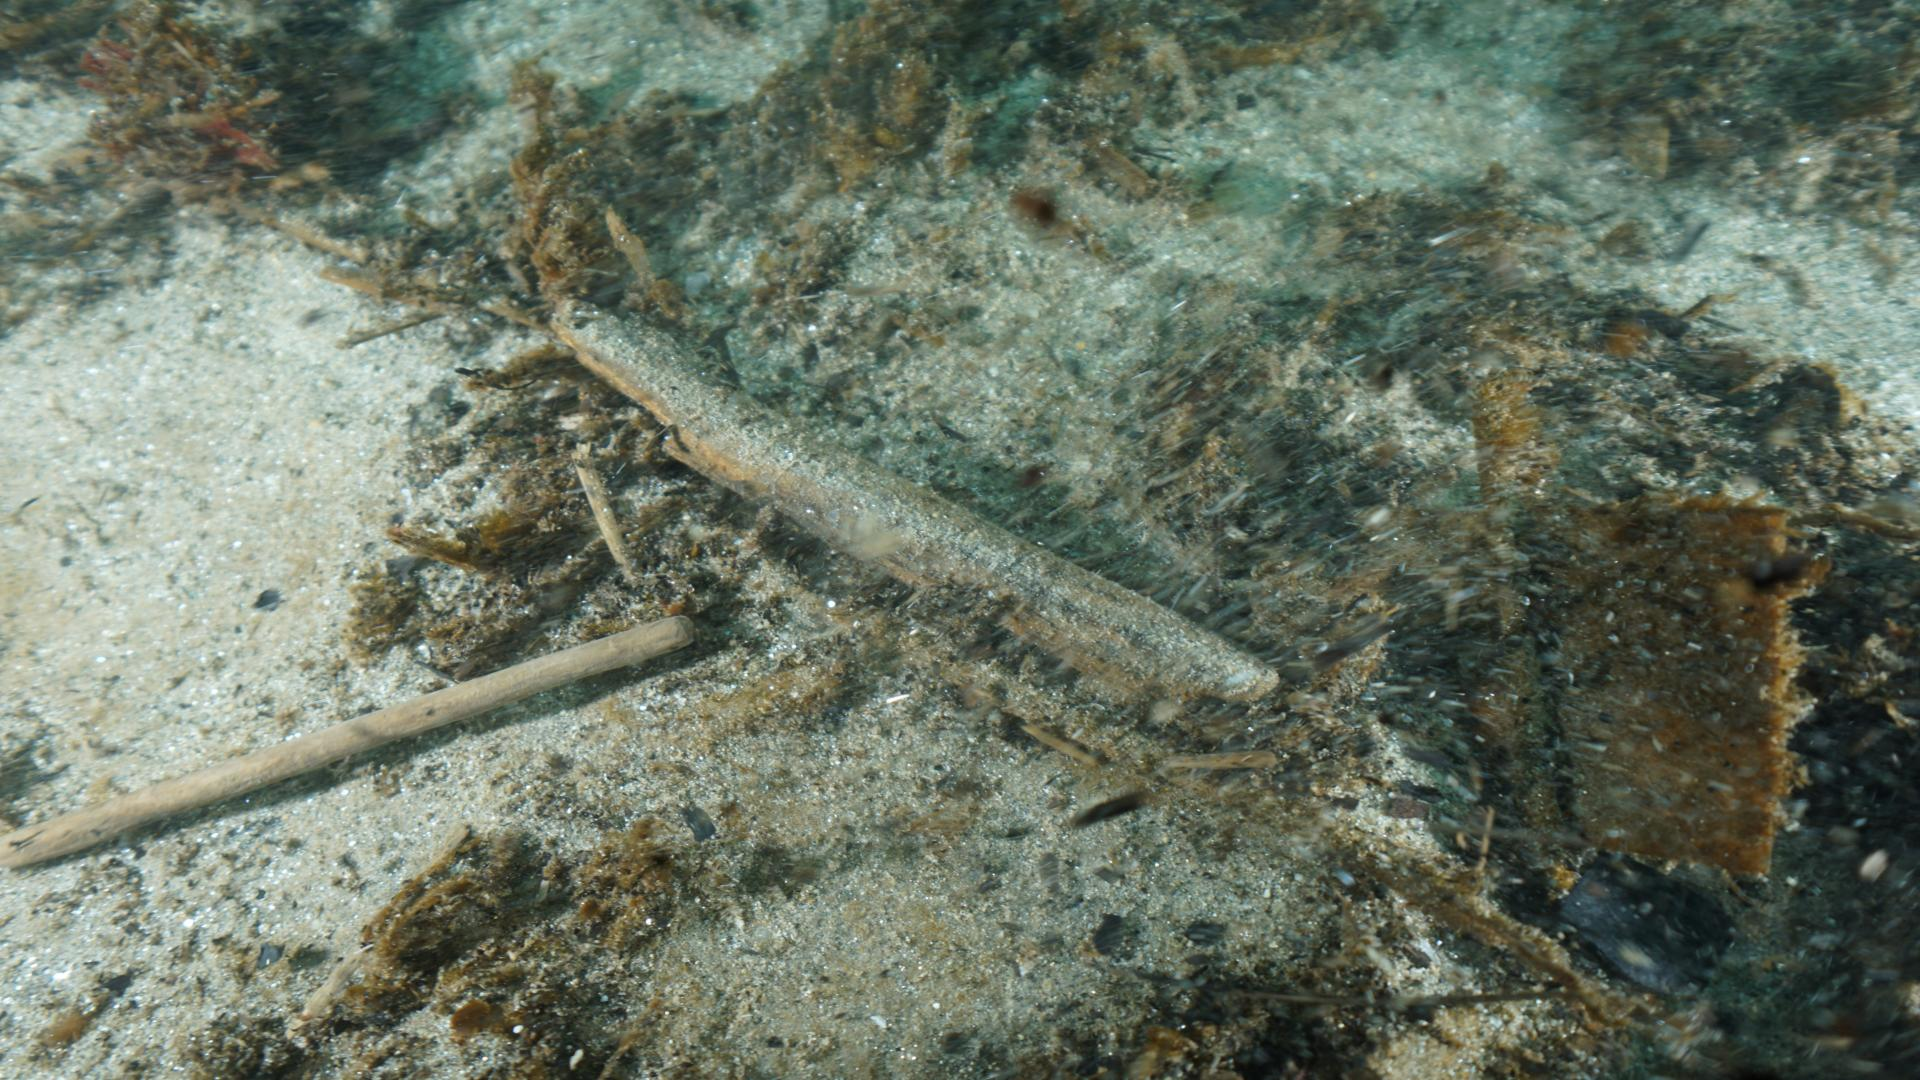wood: (537, 301, 1275, 702), (3, 613, 696, 866)
